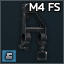M4A1 front sight: (0, 0, 64, 64)
